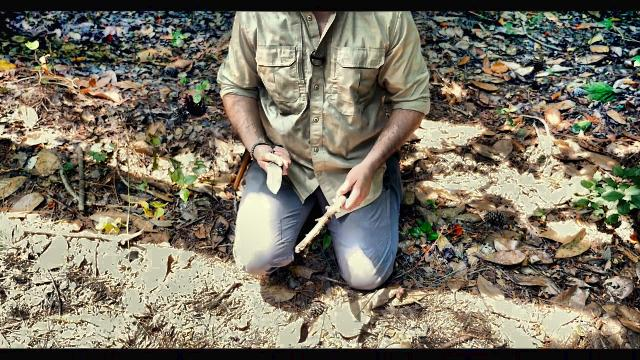knife: (256, 140, 292, 202)
